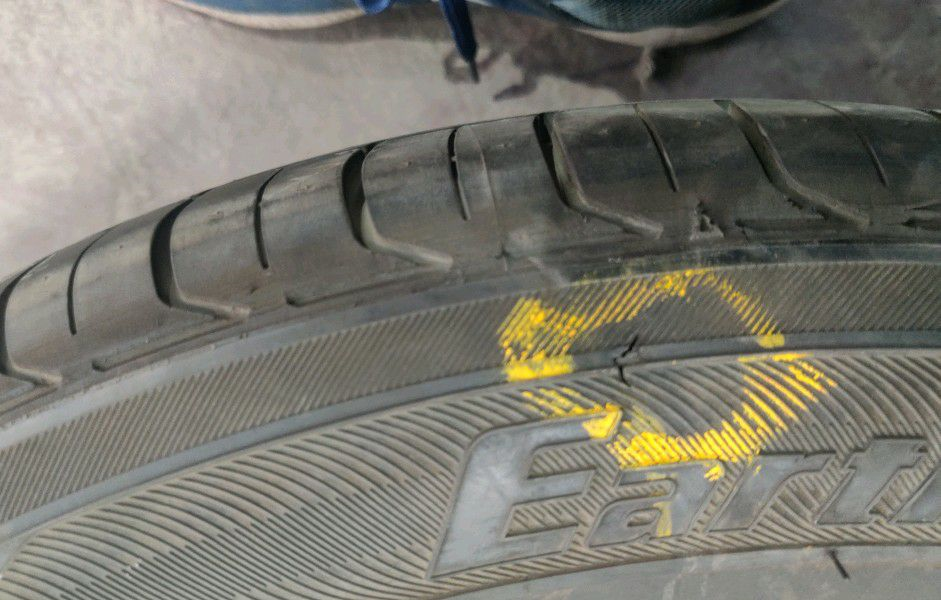cut: (609, 327, 643, 393)
